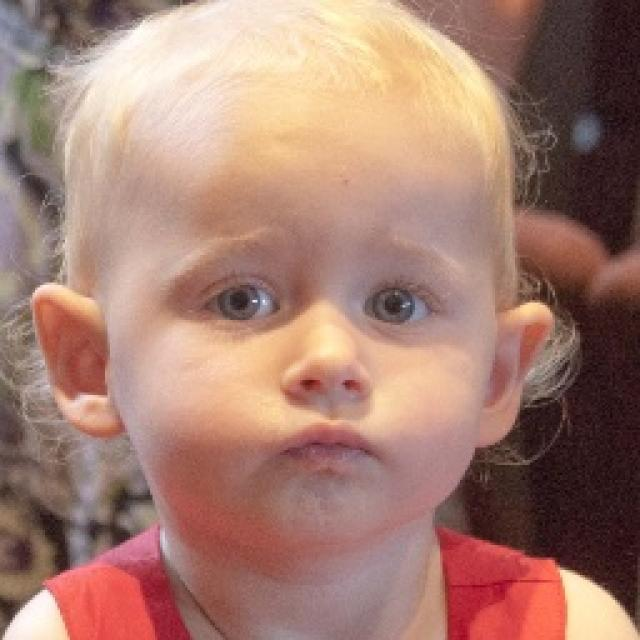earlobe: (30, 284, 124, 441), (470, 302, 554, 450)
